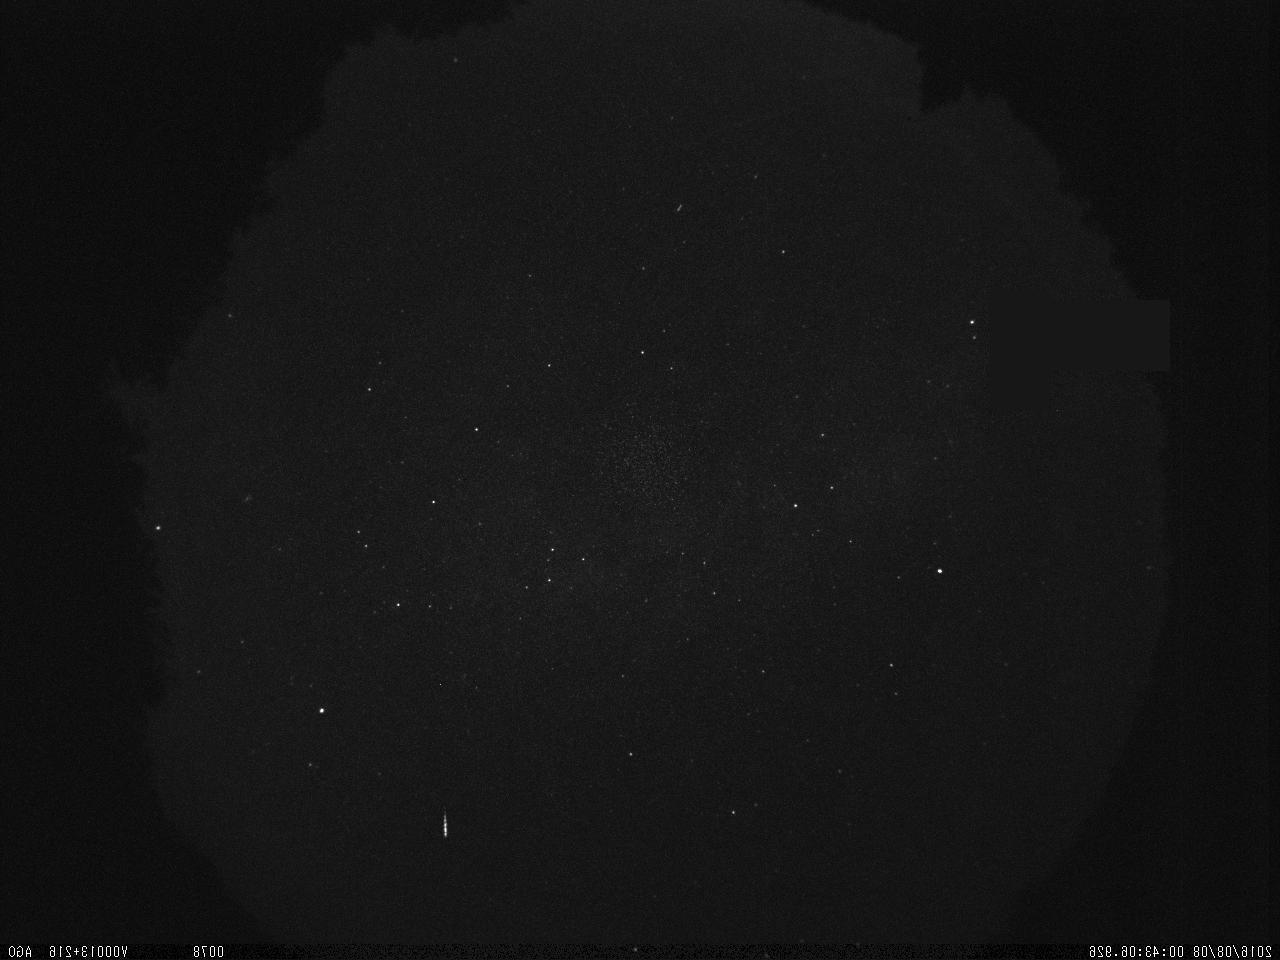meteor: (434, 799, 457, 848)
